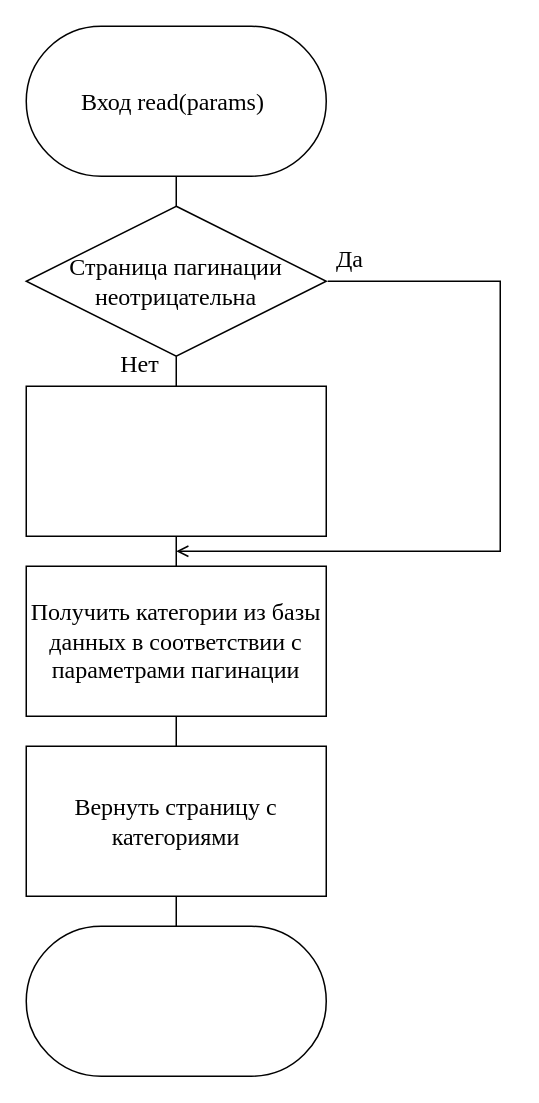
This 539x1103 diagram has some shape labels left out. Each missing label, with the centre of its shape:
Выход read(params): the point at 175,1000
Установить начальную страницу в параметрах пагинации: the point at 175,460
